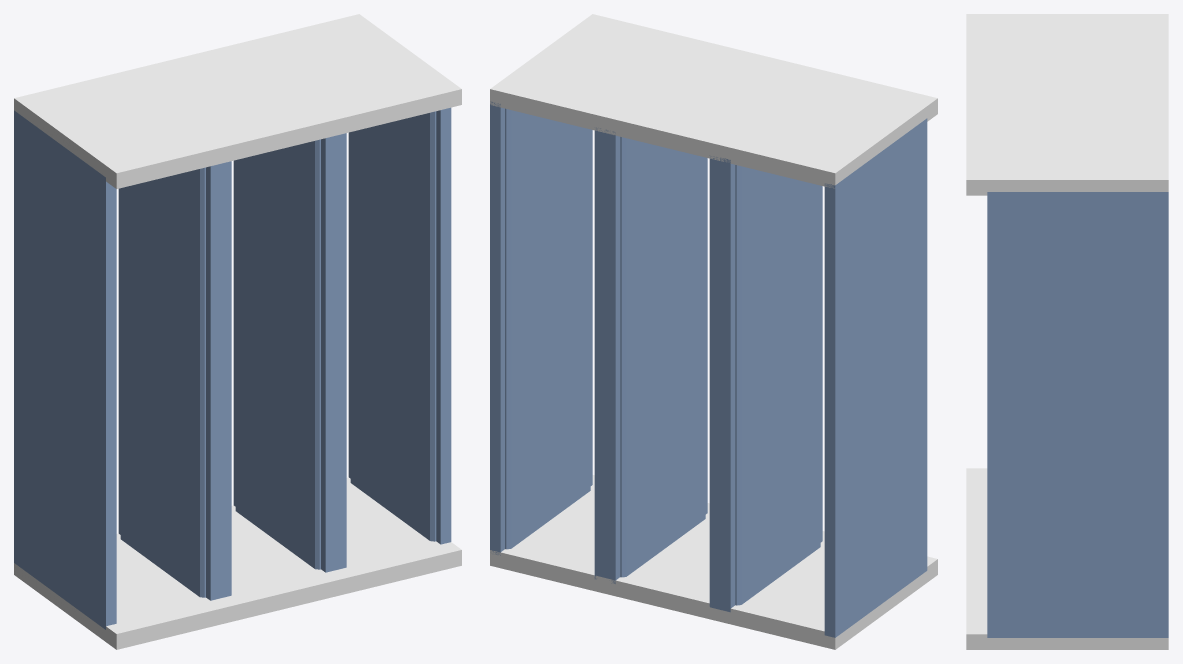
The model's file is Prop_WallShelf_04.fbx.
3 views of the same model, side by side, from view 1: azimuth 30°, elevation 25°; view 2: azimuth 150°, elevation 25°; view 3: azimuth 270°, elevation 25° (orthographic).
Parts seen in each view (by area): view 1: Prop_WallShelf_04; view 2: Prop_WallShelf_04; view 3: Prop_WallShelf_04.
Part boxes in pixels (<box>): Prop_WallShelf_04: <box>14,14,461,649</box>; Prop_WallShelf_04: <box>490,14,937,649</box>; Prop_WallShelf_04: <box>966,14,1168,649</box>.
Bounding box in the file's own units: 54.04 × 71.27 × 27.8.
